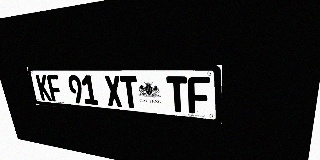1: (80, 75, 98, 105)
9: (67, 75, 85, 104)
F: (187, 76, 210, 115), (46, 75, 63, 102)
K: (35, 74, 52, 101)
T: (166, 76, 188, 113), (120, 76, 140, 109)
X: (104, 75, 123, 107)
